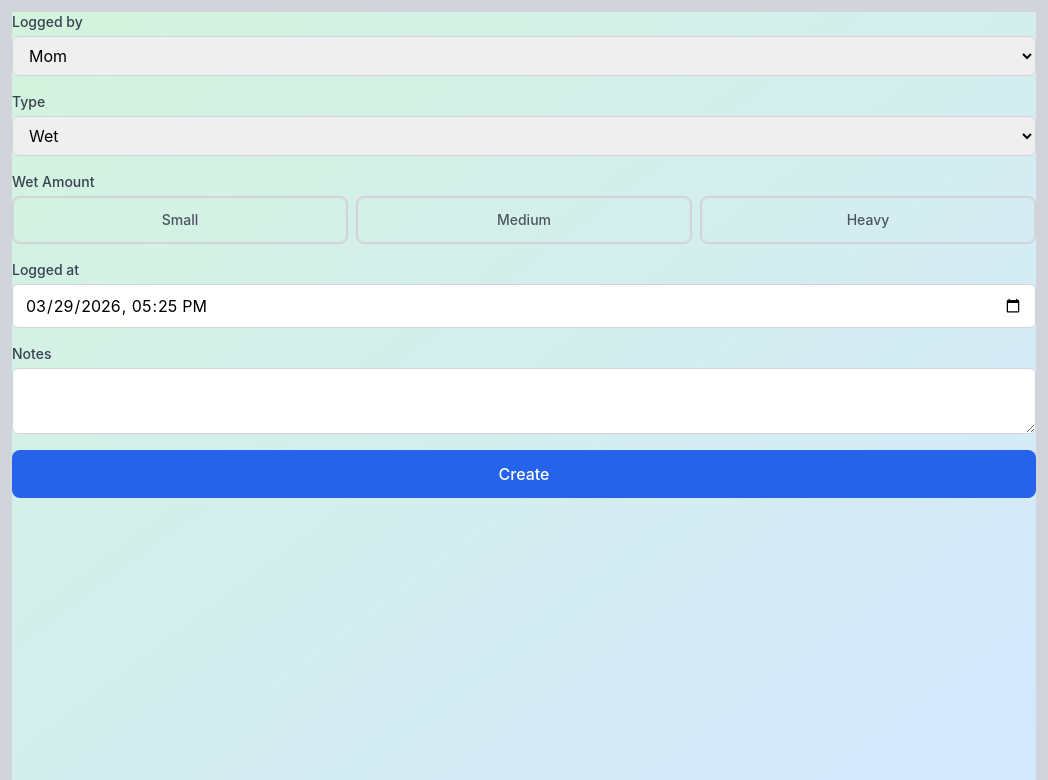
DiaperForm — wet amount selector › hides wet amount buttons when type is dirty
Select "Dirty" in the dropdown showing "Wet" below "Type" at (524, 136), box [12, 116, 1036, 156]
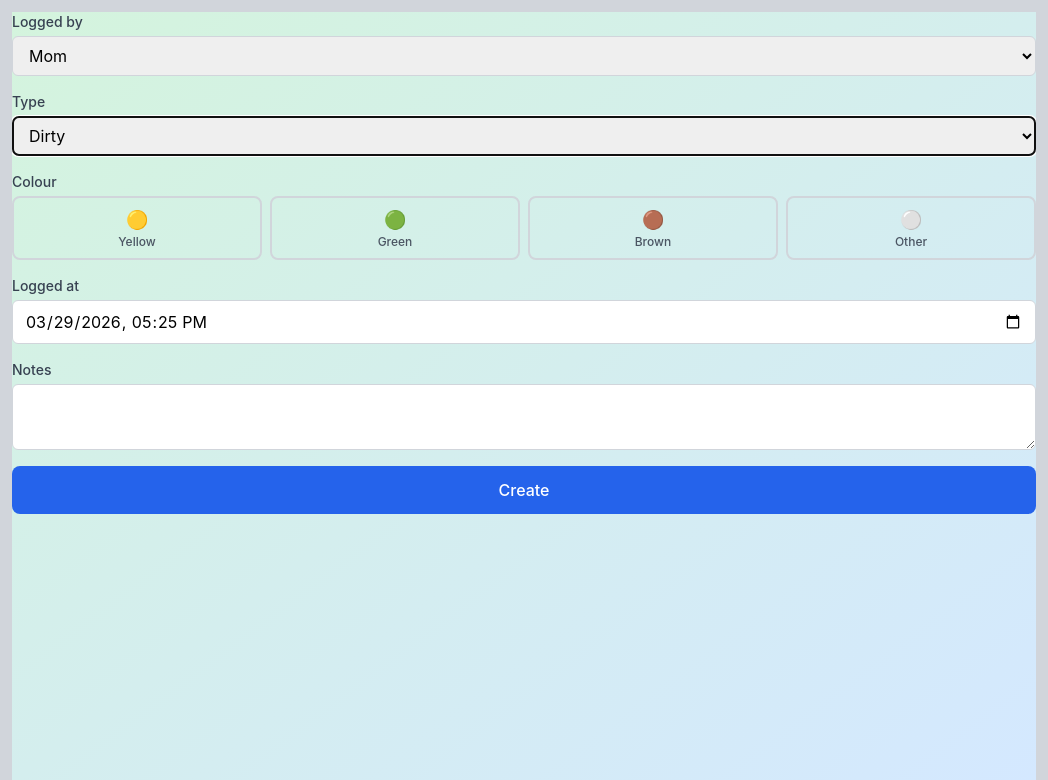
expect the text "Wet Amount" is gone: met
